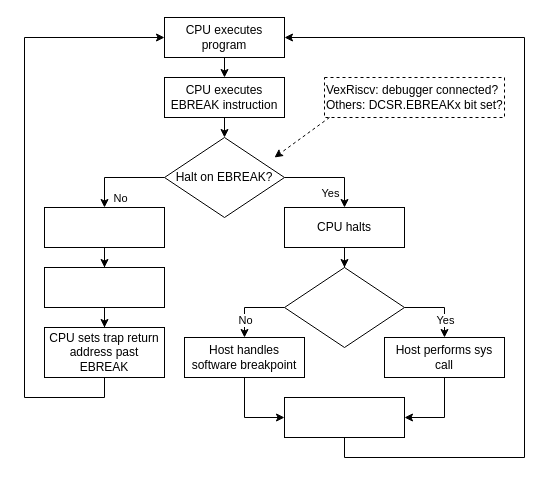
Image size: 550x483. Some labels were removed from this diagram. The shapes that lost their labels are listed below. From the top down, each one's centre as x and y in pixels, then its label:
At point (104, 227): "CPU jumps to trap vector address".
At point (104, 287): "CPU handles trap code".
At point (344, 307): "Host detects magic sequence?".
At point (344, 417): "Host sets CPU PC past EBREAK".
